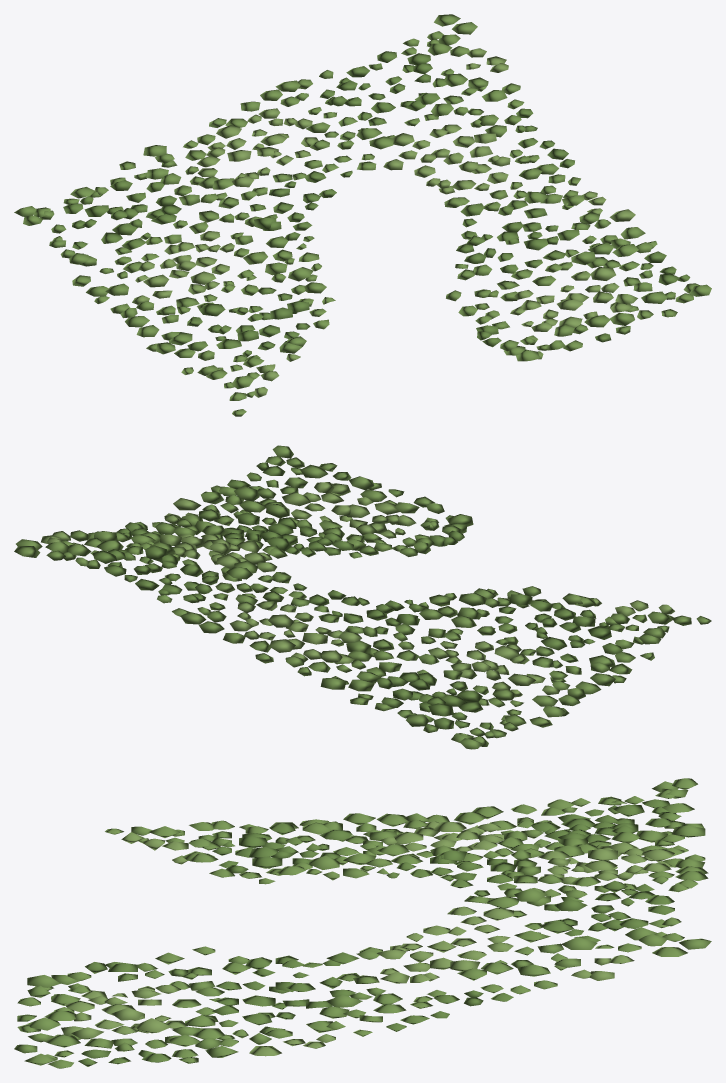
File: canopy-1-5--3.glb
3 views of the same model, one above another, from view 1: azimuth 30°, elevation 25°; view 2: azimuth 150°, elevation 25°; view 3: azimuth 270°, elevation 25° (orthographic). The views are drawn at different scales.
Size of the model in its own units: 520 by 140 by 520.
1 material, 1 textured.
